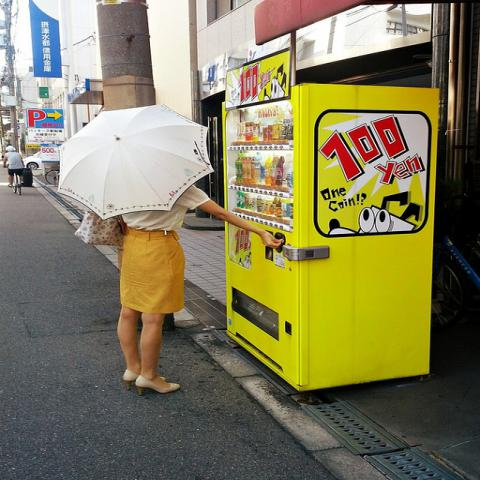car: (22, 150, 43, 170)
